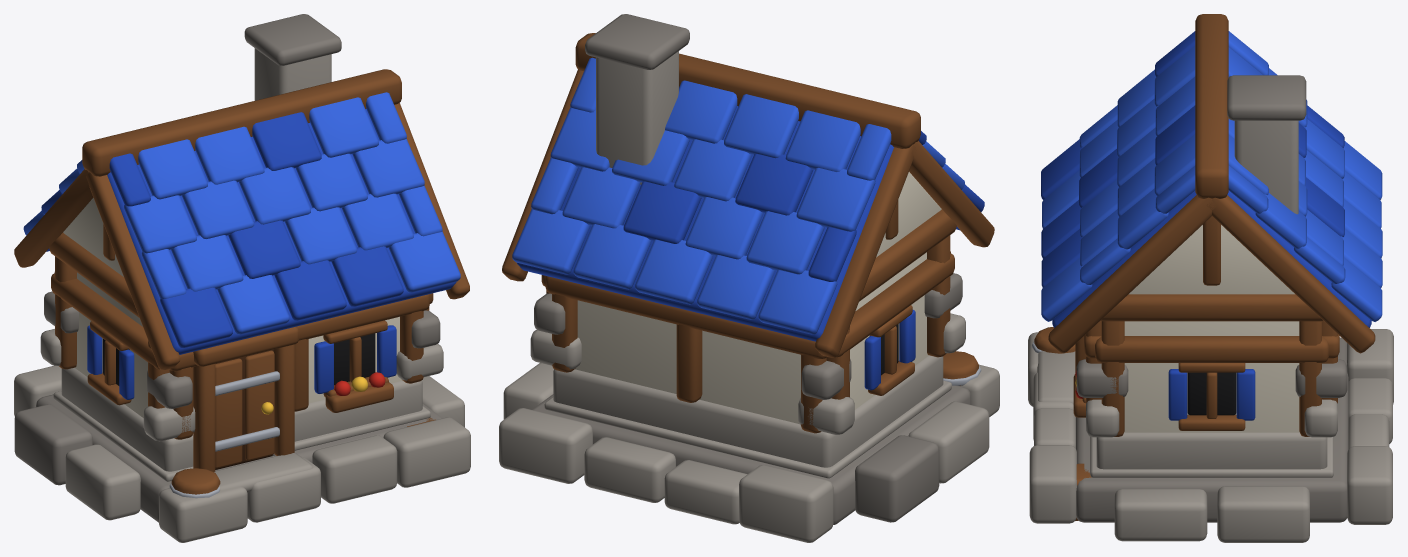
Rendered from House.glb.
The picture shows the model from 3 angles, left to right: view 1: azimuth 30°, elevation 25°; view 2: azimuth 150°, elevation 25°; view 3: azimuth 270°, elevation 25°; orthographic projection. The views are drawn at different scales.
Parts seen in each view (by area): view 1: House; view 2: House; view 3: House.
Part boxes in pixels (x1,y1,x2,y2): House: (14,14,470,542); House: (499,14,999,542); House: (1028,14,1393,542).
Size of the model in its own units: 2.95 by 2.91 by 2.41.
